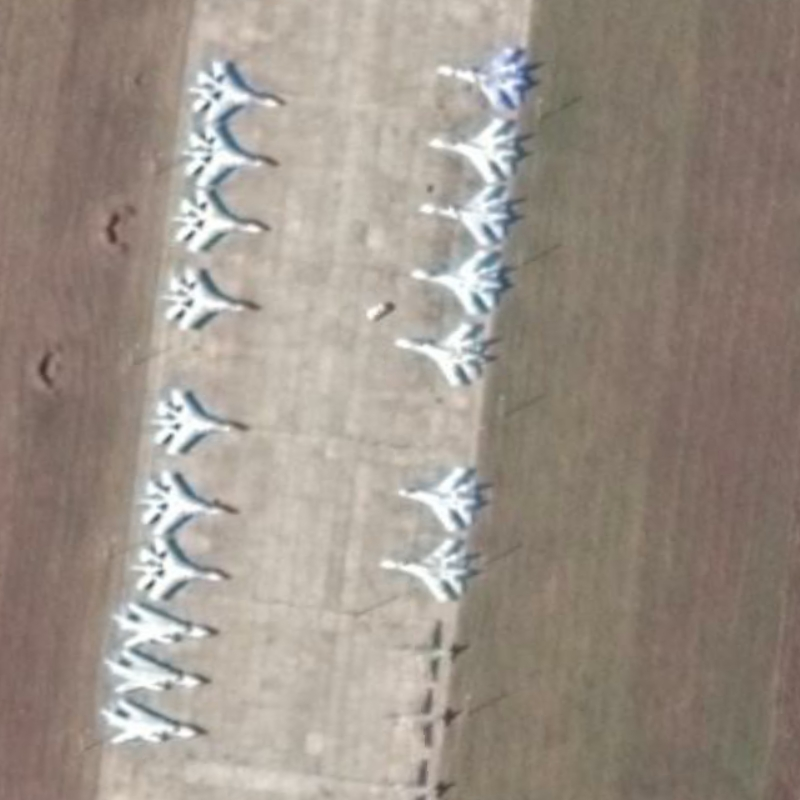A1: (409, 249, 505, 318), (435, 44, 529, 114), (392, 321, 488, 388), (129, 536, 225, 602), (426, 116, 520, 183), (378, 536, 469, 605), (187, 59, 282, 124), (171, 188, 266, 253), (149, 386, 235, 456), (394, 464, 479, 534), (161, 266, 250, 332), (418, 184, 511, 247), (138, 469, 226, 535), (180, 124, 269, 188)
A20: (103, 643, 212, 692), (100, 693, 199, 745), (110, 600, 213, 647)
